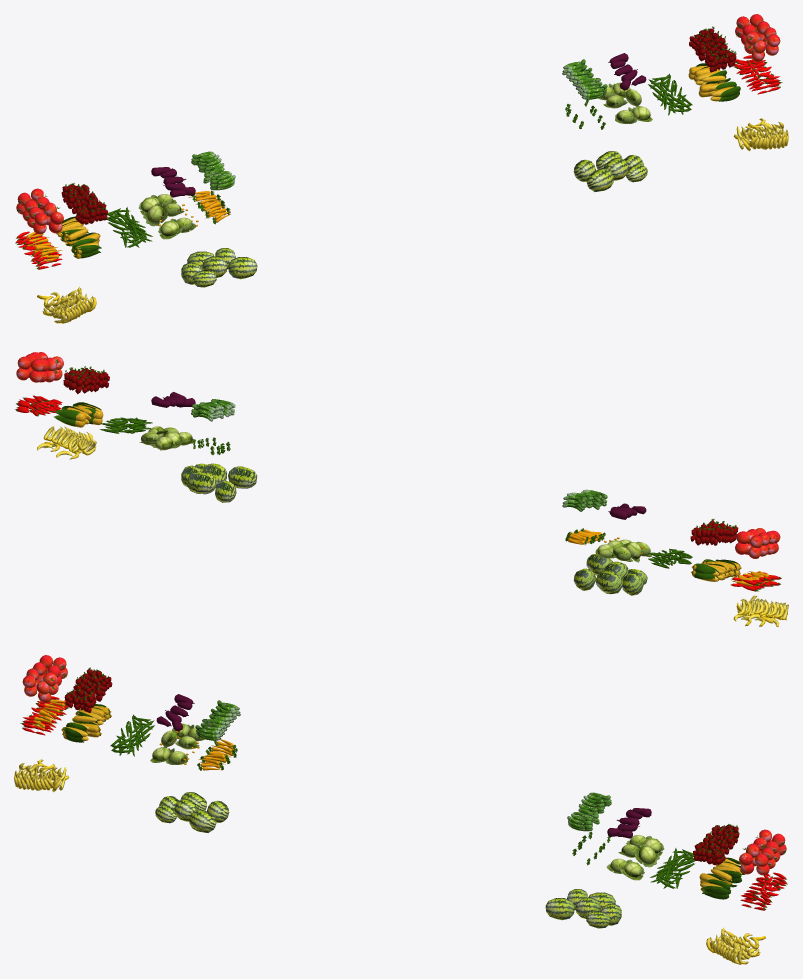
Rendered from food_L4.glb.
3 views of the same model, one above another, from view 1: azimuth 30°, elevation 25°; view 2: azimuth 150°, elevation 25°; view 3: azimuth 330°, elevation 25° (orthographic).
Visible parts, largest first — view 1: _l4_Veges Shelf Details.006, _l4_Veges Shelf Details.001, _l4_Veges Shelf Details.004, _l4_Veges Shelf Details.002, _l4_Veges Shelf Details.007, _l4_Veges Shelf Details.005, _l4_Veges Shelf Details.003, _l4_Veges Shelf Details.011, _l4_Veges Shelf Details.009, _l4_Veges Shelf Details, _l4_Veges Shelf Details.008, _l4_Veges Shelf Details.010; view 2: _l4_Veges Shelf Details.001, _l4_Veges Shelf Details.006, _l4_Veges Shelf Details.002, _l4_Veges Shelf Details.004, _l4_Veges Shelf Details.007, _l4_Veges Shelf Details.005, _l4_Veges Shelf Details.011, _l4_Veges Shelf Details.003, _l4_Veges Shelf Details.009, _l4_Veges Shelf Details, _l4_Veges Shelf Details.008, _l4_Veges Shelf Details.010; view 3: _l4_Veges Shelf Details.006, _l4_Veges Shelf Details.001, _l4_Veges Shelf Details.004, _l4_Veges Shelf Details.002, _l4_Veges Shelf Details.007, _l4_Veges Shelf Details.005, _l4_Veges Shelf Details.011, _l4_Veges Shelf Details.003, _l4_Veges Shelf Details.009, _l4_Veges Shelf Details, _l4_Veges Shelf Details.008, _l4_Veges Shelf Details.010.
Boxes of the visible parts, x1,y1,x2,y2 form: _l4_Veges Shelf Details.006: (15,19,782,268); _l4_Veges Shelf Details.001: (181,151,647,287); _l4_Veges Shelf Details.004: (16,14,780,234); _l4_Veges Shelf Details.002: (37,118,788,323); _l4_Veges Shelf Details.007: (61,28,736,224); _l4_Veges Shelf Details.005: (191,59,607,190); _l4_Veges Shelf Details.003: (138,82,651,239); _l4_Veges Shelf Details.011: (139,82,652,239); _l4_Veges Shelf Details.009: (16,55,780,269); _l4_Veges Shelf Details: (56,66,733,258); _l4_Veges Shelf Details.008: (151,53,646,197); _l4_Veges Shelf Details.010: (25,191,230,261); _l4_Veges Shelf Details.001: (181,463,647,595); _l4_Veges Shelf Details.006: (15,357,781,591); _l4_Veges Shelf Details.002: (37,426,788,626); _l4_Veges Shelf Details.004: (16,352,780,558); _l4_Veges Shelf Details.007: (63,368,738,545); _l4_Veges Shelf Details.005: (191,399,607,511); _l4_Veges Shelf Details.011: (139,426,649,560); _l4_Veges Shelf Details.003: (140,426,652,562); _l4_Veges Shelf Details.009: (16,395,780,591); _l4_Veges Shelf Details: (61,404,739,581); _l4_Veges Shelf Details.008: (151,392,646,519); _l4_Veges Shelf Details.010: (567,529,774,586); _l4_Veges Shelf Details.006: (20,660,787,909); _l4_Veges Shelf Details.001: (155,792,621,928); _l4_Veges Shelf Details.004: (22,655,786,875); _l4_Veges Shelf Details.002: (14,759,765,964); _l4_Veges Shelf Details.007: (64,669,739,865); _l4_Veges Shelf Details.005: (195,700,611,831); _l4_Veges Shelf Details.011: (152,724,663,880); _l4_Veges Shelf Details.003: (150,723,664,880); _l4_Veges Shelf Details.009: (22,696,786,910); _l4_Veges Shelf Details: (62,706,742,891); _l4_Veges Shelf Details.008: (156,694,651,838); _l4_Veges Shelf Details.010: (29,699,235,770).
Bounding box in the file's own units: 8.76 × 1.24 × 0.9552.
Materials: 12 (7 with a texture image).
